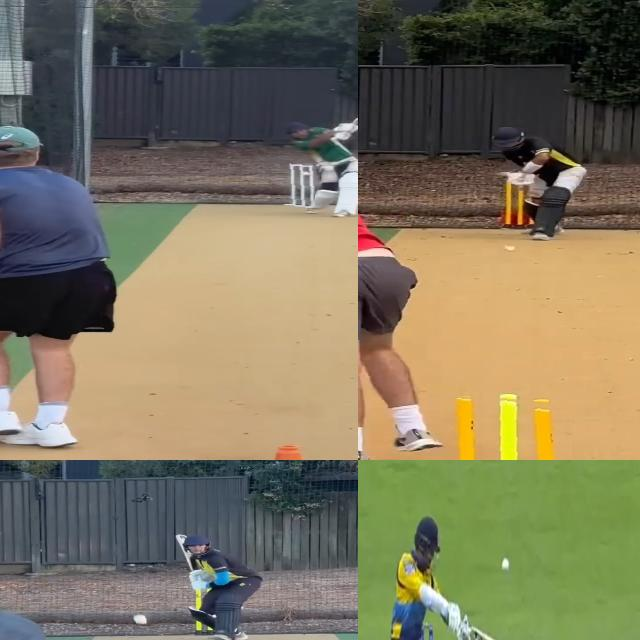Cricket ball: (130, 612, 150, 626), (501, 556, 511, 574), (502, 243, 518, 252), (301, 168, 312, 175)
Stumps: (432, 391, 572, 460), (285, 161, 315, 208)
